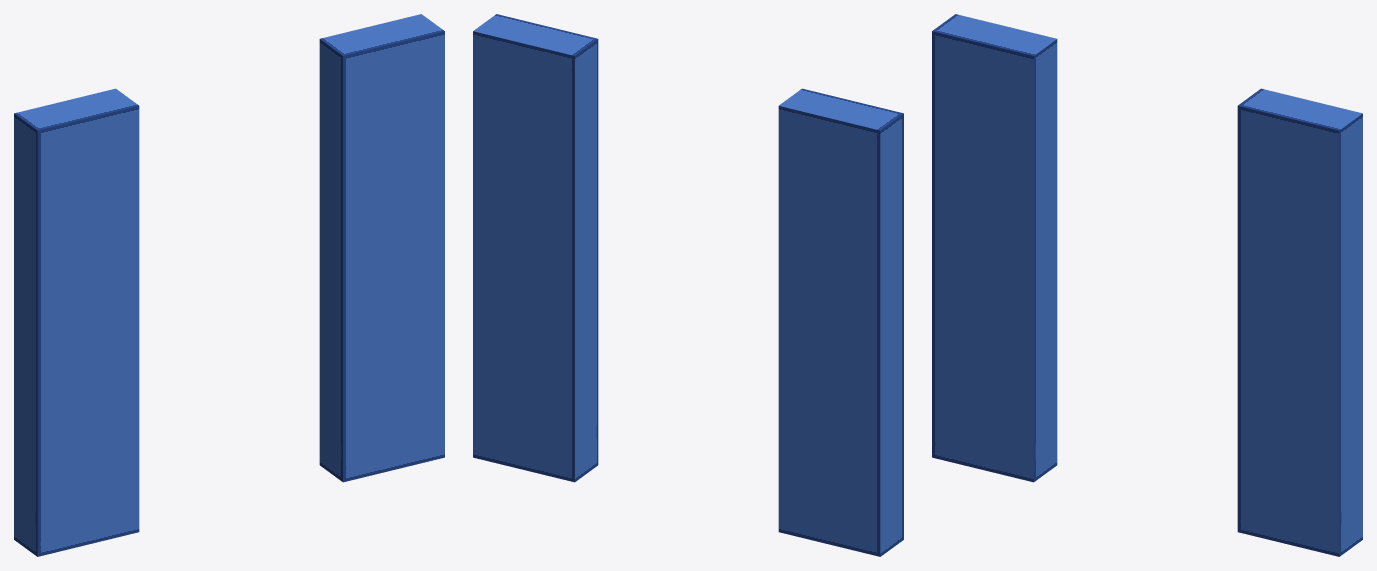
File: door.glb
3 renders of one model, left to right at view 1: azimuth 30°, elevation 25°; view 2: azimuth 150°, elevation 25°; view 3: azimuth 330°, elevation 25°, orthographic.
Parts seen in each view (by area): view 1: door-col; view 2: door-col; view 3: door-col.
Part boxes in pixels (x1,y1,x2,y2): door-col: (14, 14, 444, 556); door-col: (473, 14, 903, 556); door-col: (932, 14, 1362, 556).
Bounding box in the file's own units: 2 × 2 × 0.2.
1 material, 1 textured.
